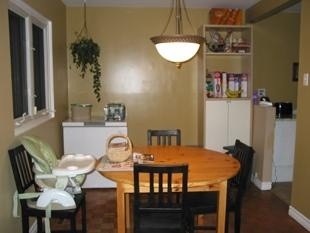chair: (8, 144, 86, 233), (190, 139, 257, 232), (133, 163, 189, 232), (147, 129, 183, 148)
diningtable: (97, 141, 242, 233)
pottedplant: (70, 32, 105, 104)
